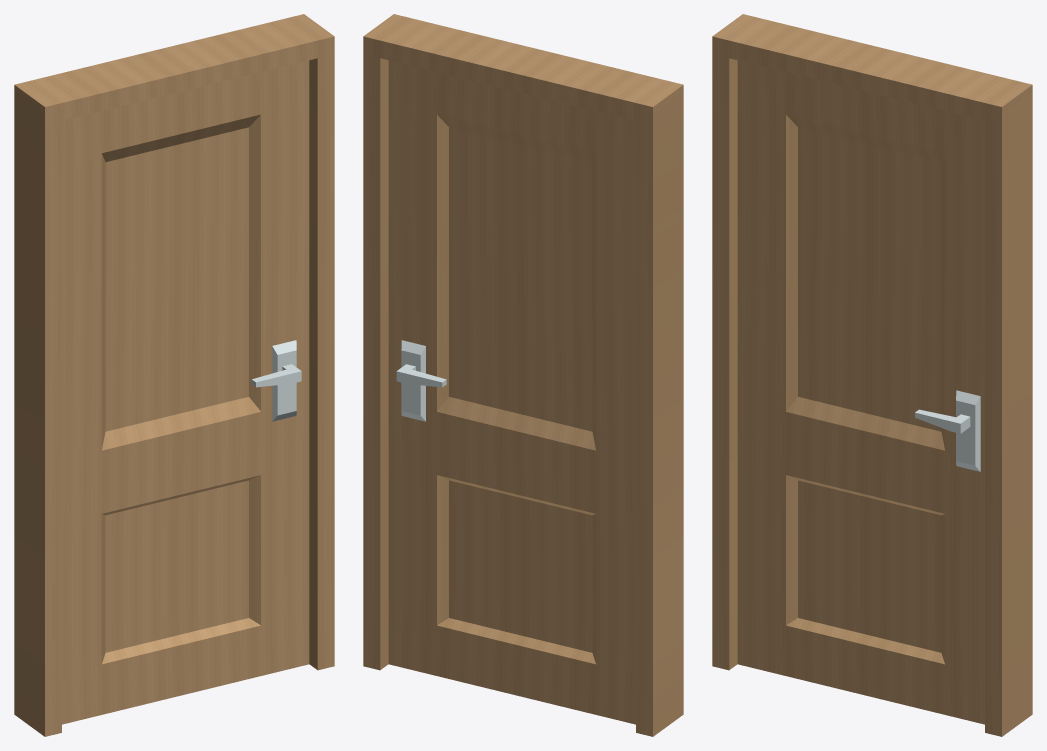
The model's file is doorway.glb.
3 renders of one model, left to right at view 1: azimuth 30°, elevation 25°; view 2: azimuth 150°, elevation 25°; view 3: azimuth 330°, elevation 25°, orthographic.
Visible parts, largest first — view 1: door, doorway(Clone); view 2: door, doorway(Clone); view 3: door, doorway(Clone).
Boxes of the visible parts, x1,y1,x2,y2 form: door: [62, 60, 309, 724]; doorway(Clone): [14, 14, 334, 736]; door: [388, 60, 635, 724]; doorway(Clone): [363, 14, 683, 736]; door: [737, 60, 984, 724]; doorway(Clone): [712, 14, 1032, 736].
Bounding box in the file's own units: 0.486 × 1.01 × 0.1134.
Materials: 2 (1 with a texture image).
